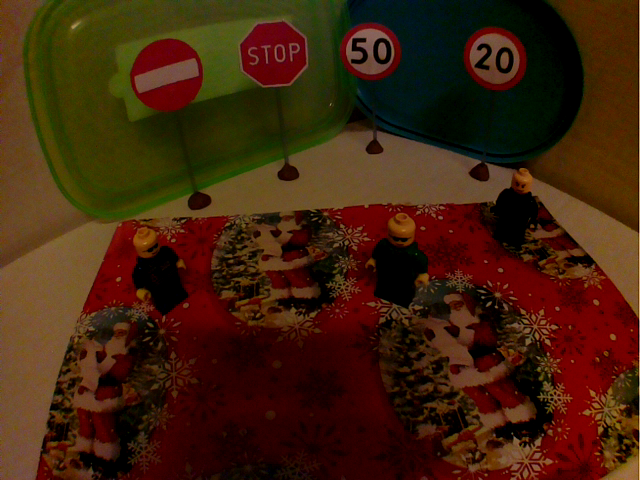Ograniczenie 20: (460, 24, 529, 92)
Ograniczenie 50: (335, 20, 405, 85)
Postac LEGO: (364, 210, 433, 313), (127, 220, 193, 321), (487, 163, 543, 252)
Stop: (235, 14, 312, 93)
Zakaz: (127, 34, 208, 116)
